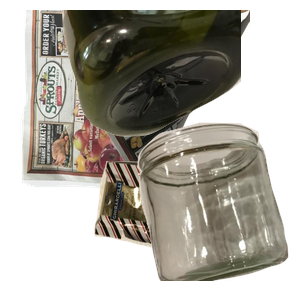glass: (135, 120, 300, 300)
paper: (18, 10, 258, 190)
plastic: (60, 10, 300, 139)
trash: (92, 158, 277, 300)
